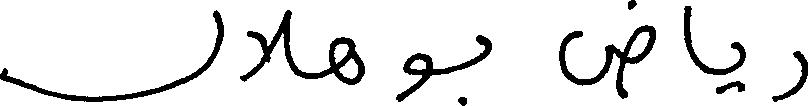X: (0, 5, 222, 105), (559, 0, 654, 103), (241, 5, 290, 86), (397, 48, 432, 105), (774, 46, 807, 105), (331, 32, 364, 89), (684, 1, 698, 71), (733, 37, 745, 96), (476, 30, 491, 68)
